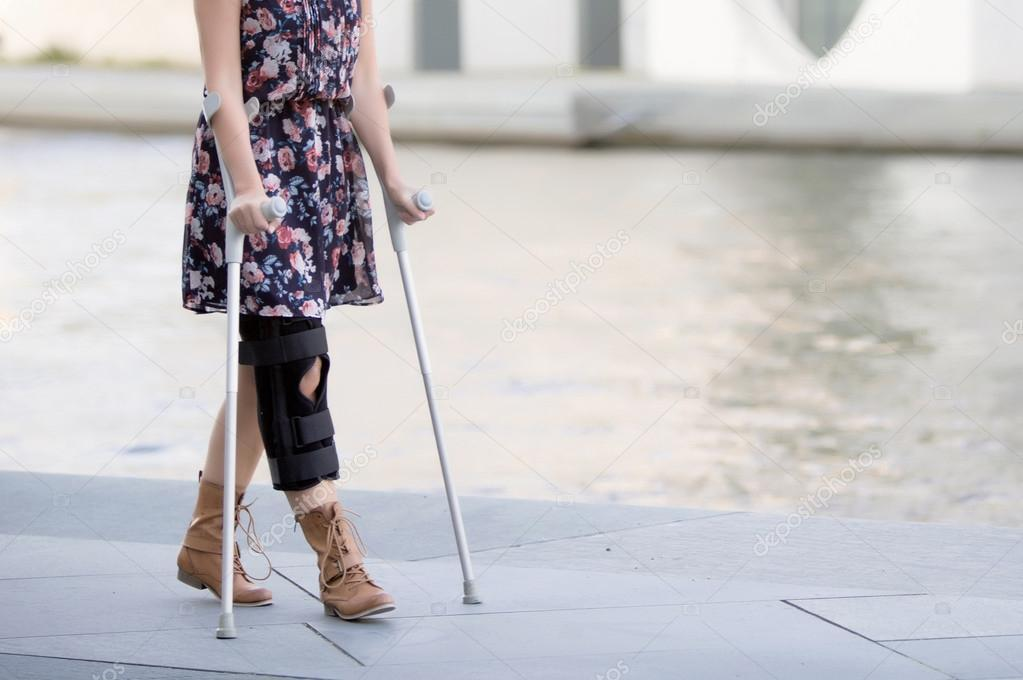crutches: (175, 0, 484, 640)
